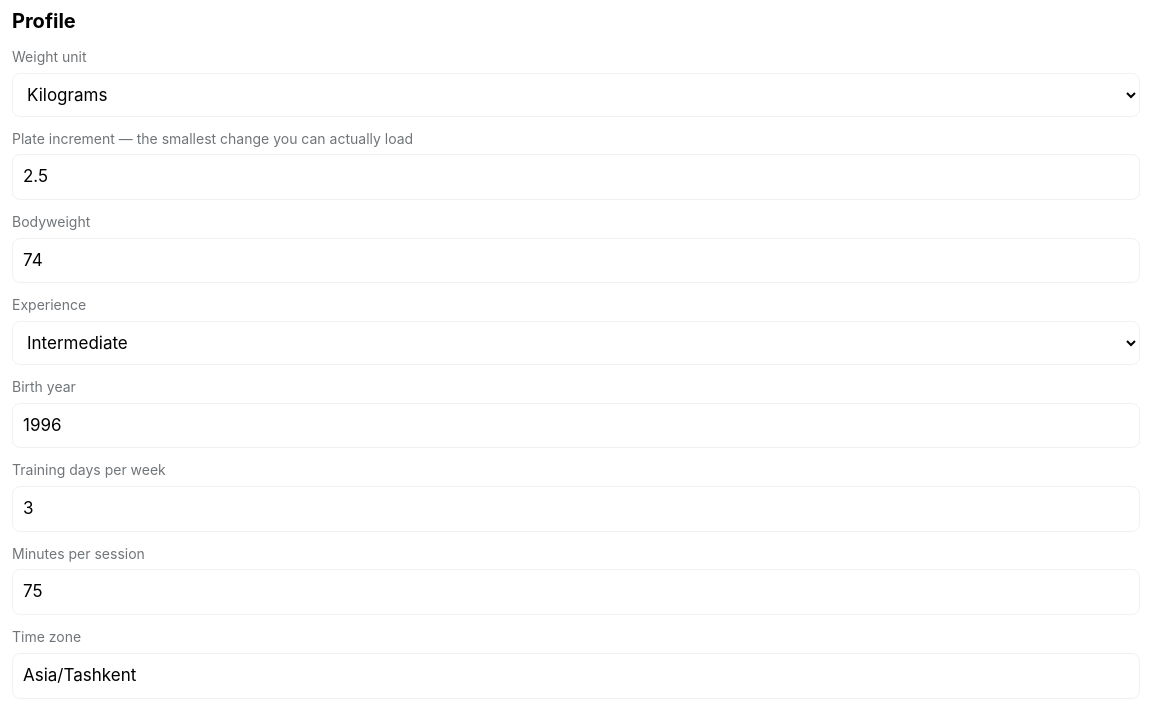
Test: the Profile screen › a rejected time zone is shown against the field, not only as a banner
The width and height of the screenshot is (1152, 715).
Replace the text in the field showing "Asia/Tashkent" with "Mars/Olympus_Mons" at (576, 676), box [12,653,1140,698]
(page scrolled)
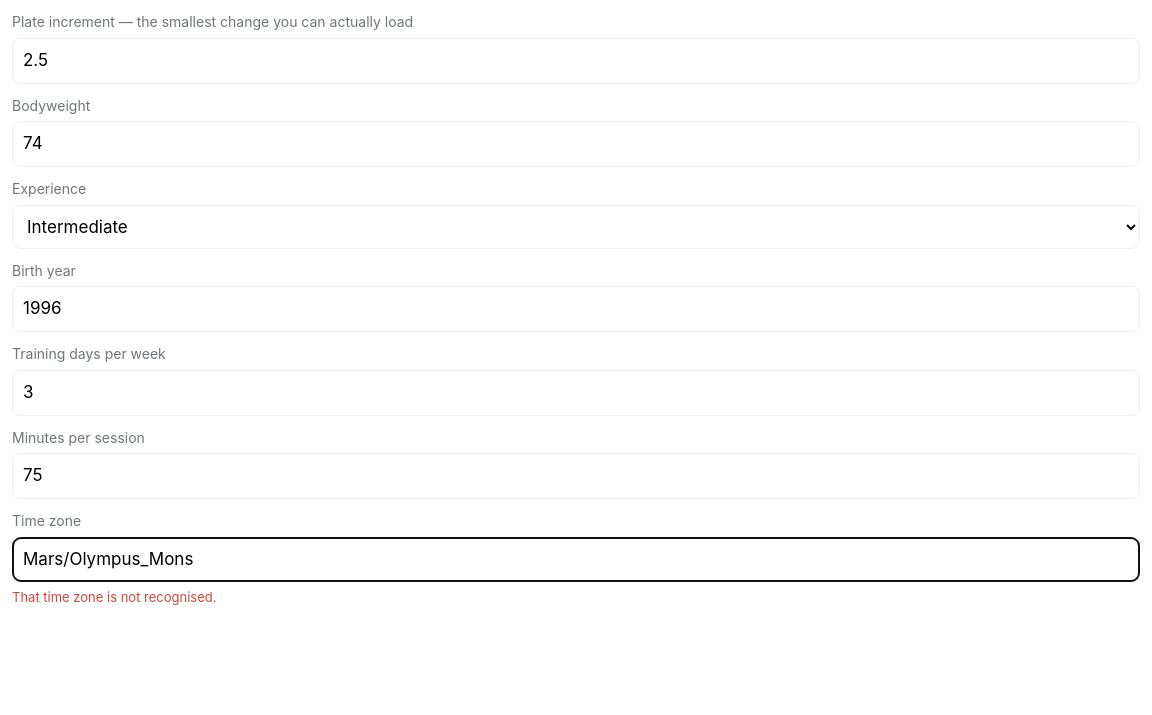
Expected: the text "That time zone is not recognised." is shown, [12,589,216,605]
